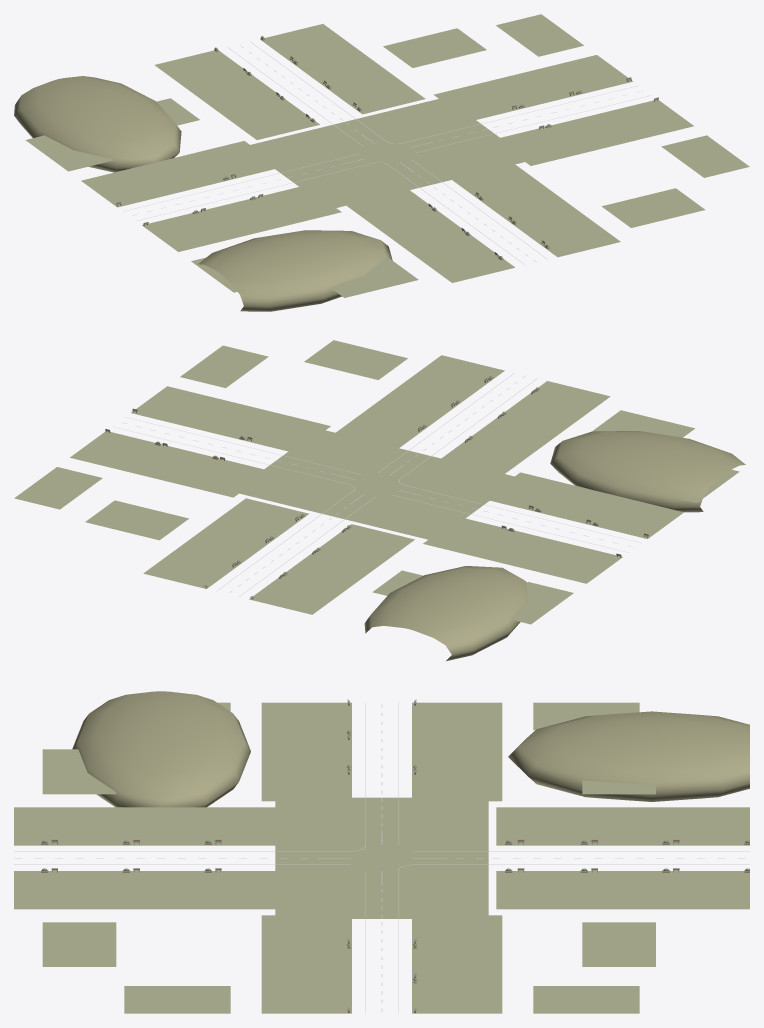
3 renders of one model, top to bottom at view 1: azimuth 30°, elevation 25°; view 2: azimuth 150°, elevation 25°; view 3: azimuth 270°, elevation 25°, orthographic. The views are drawn at different scales.
Parts seen in each view (by area): view 1: static; view 2: static; view 3: static.
Part boxes in pixels (left/top/right/bottom): static: left=14, top=14, right=749, bottom=311; static: left=14, top=340, right=745, bottom=661; static: left=14, top=691, right=749, bottom=1013.
Size of what is drawn, in the model's own units: 180 by 14.08 by 180.
